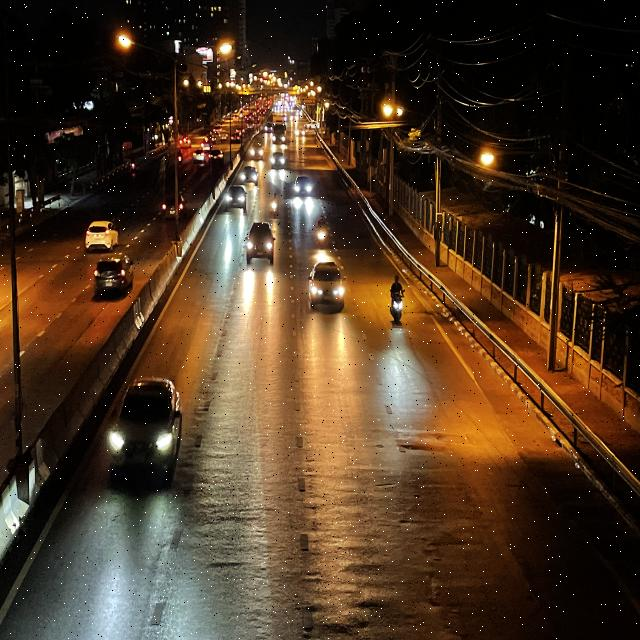bike: (389, 274, 404, 327), (315, 215, 328, 250)
car: (107, 372, 184, 486), (306, 259, 346, 313), (245, 220, 276, 265)
